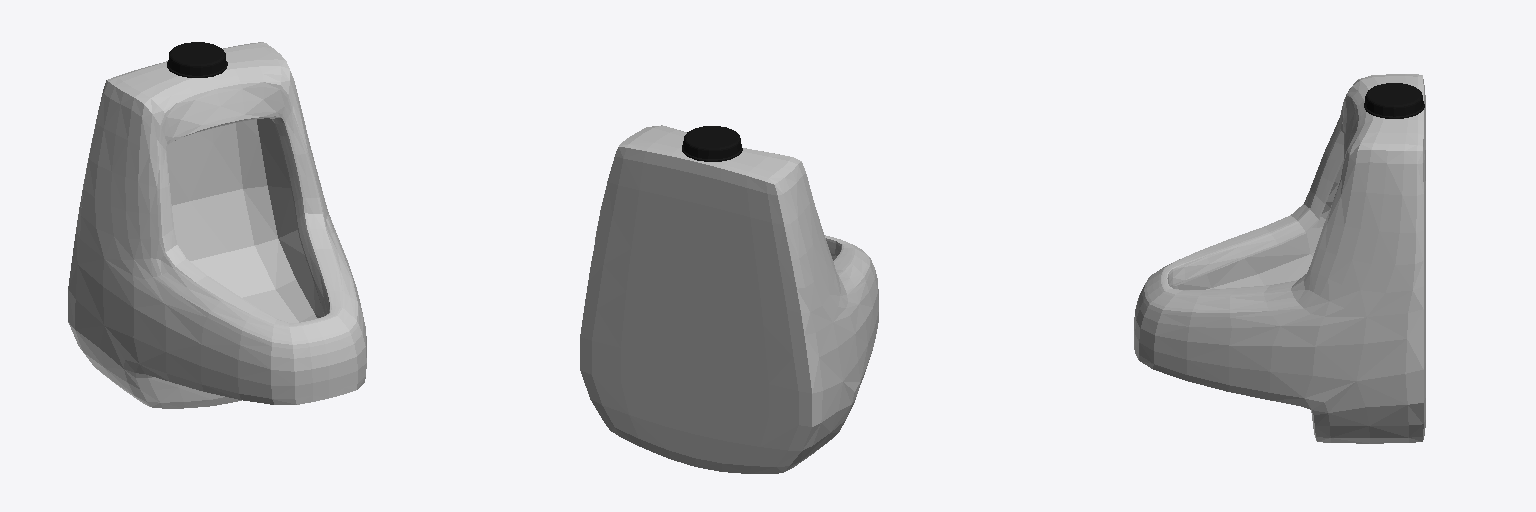
Rendered from urinal.obj.
3 renders of one model, left to right at view 1: azimuth 30°, elevation 25°; view 2: azimuth 150°, elevation 25°; view 3: azimuth 270°, elevation 25°, orthographic.
Visible parts, largest first — view 1: Rectangle0; view 2: Rectangle0; view 3: Rectangle0.
Boxes of the visible parts, box(x1,y1,x2,y2) form: Rectangle0: box(68, 42, 366, 408); Rectangle0: box(580, 125, 878, 473); Rectangle0: box(1134, 74, 1425, 443).
Bounding box in the file's own units: 24.87 × 32.53 × 26.77.